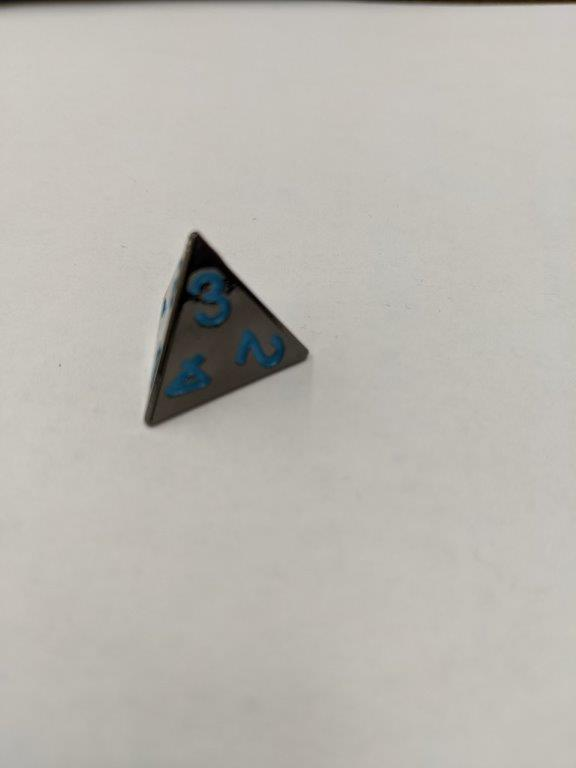d4-3: (136, 224, 313, 435)
